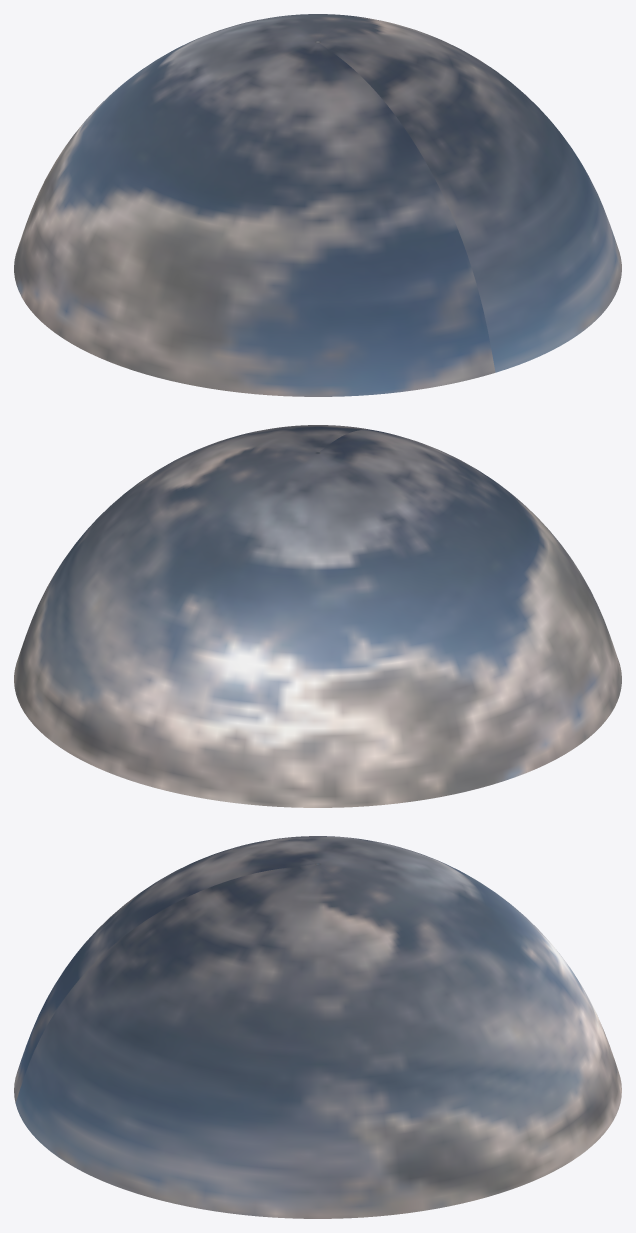
File: postwar-city.v1.glb
3 renders of one model, top to bottom at view 1: azimuth 30°, elevation 25°; view 2: azimuth 150°, elevation 25°; view 3: azimuth 270°, elevation 25°, orthographic.
Parts seen in each view (by area): view 1: Sphere; view 2: Sphere; view 3: Sphere.
Part boxes in pixels (box(x1,y1,x2,y2)): Sphere: box(14, 14, 621, 396); Sphere: box(14, 425, 621, 807); Sphere: box(14, 836, 621, 1218).
Size of what is drawn, in the model's own units: 168 by 69.07 by 168.
75 materials, 75 textured.
